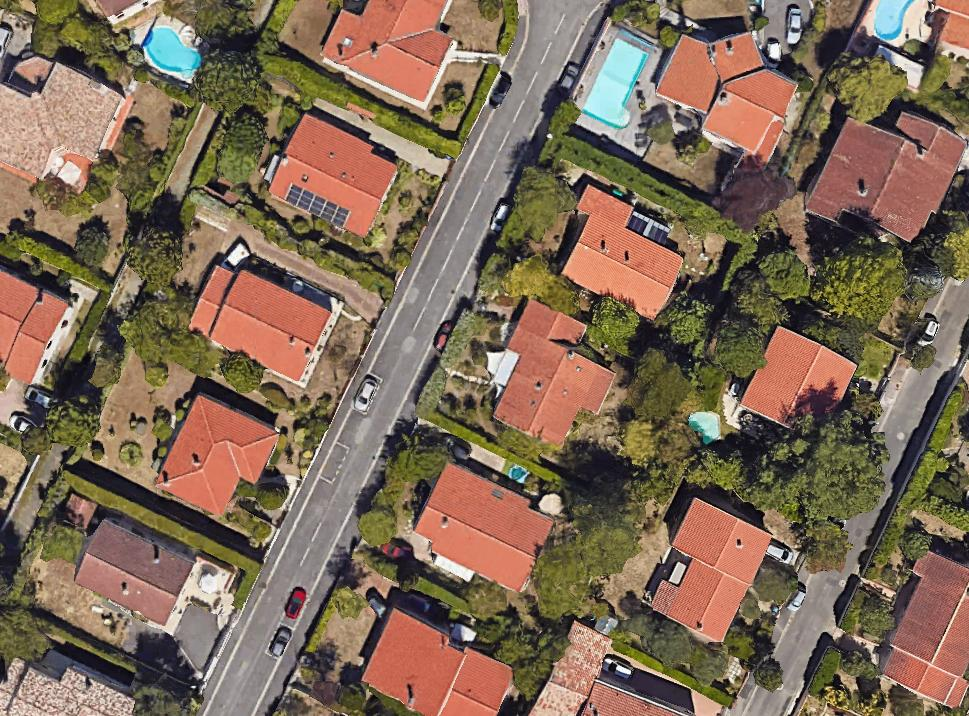maison: (801, 88, 967, 257), (642, 6, 814, 167), (477, 298, 629, 455), (540, 182, 697, 328), (183, 247, 340, 386), (404, 460, 557, 601), (0, 43, 133, 204), (257, 101, 406, 239), (639, 496, 774, 645), (352, 604, 519, 716), (152, 392, 281, 525), (317, 0, 469, 108), (531, 622, 695, 715), (878, 547, 969, 709), (738, 323, 856, 443), (71, 517, 195, 625), (0, 651, 134, 715), (0, 270, 67, 382), (933, 0, 968, 52)
